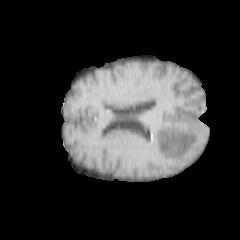glioma: (144, 119, 201, 159)
